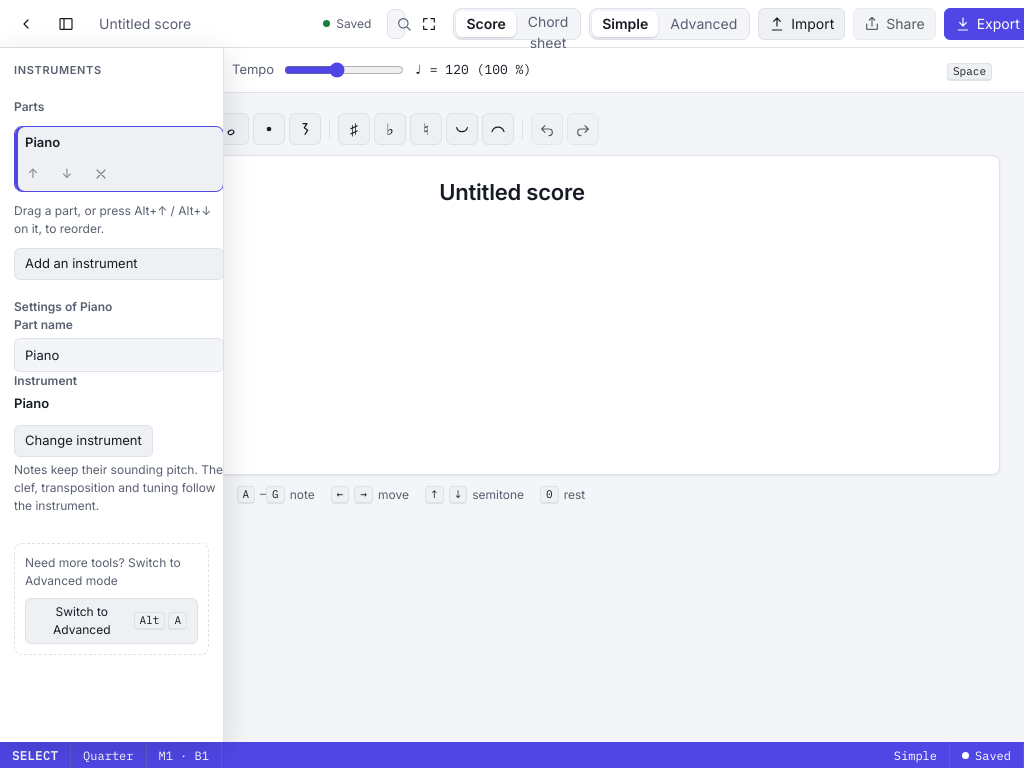
command palette › lists recently used commands first on the next opening
This screenshot has width=1024, height=768.
Type keys "{Control>}k{/Control}"
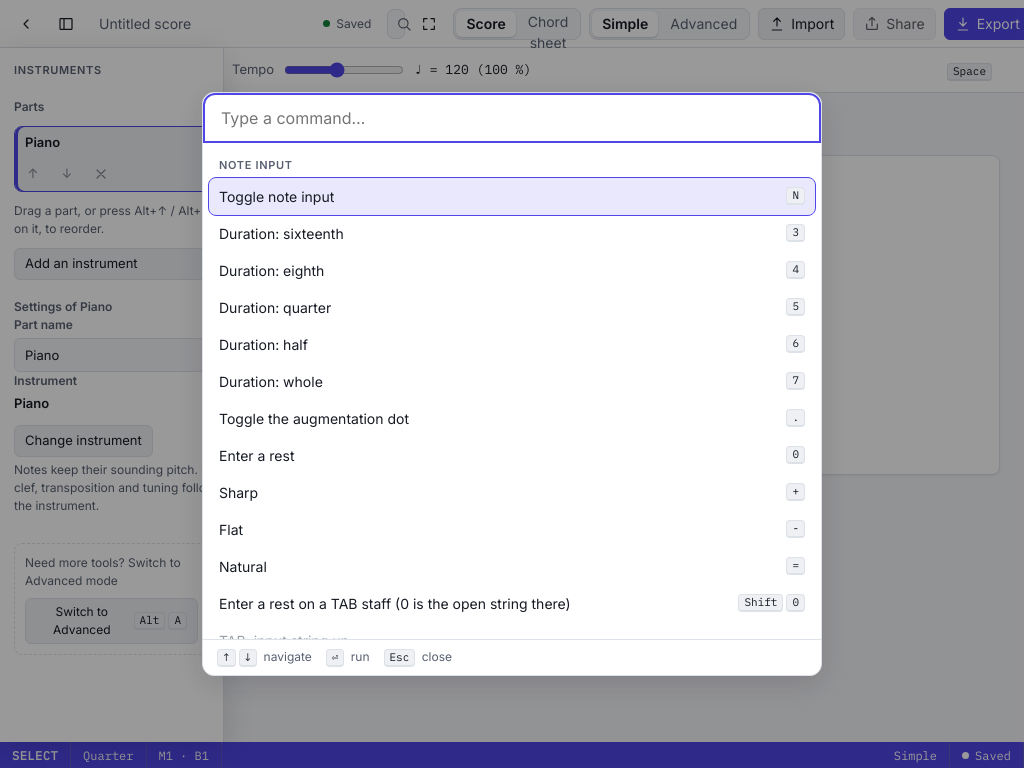
Type "dot" into the dropdown named "Search commands" at [512, 118], box [203,93,821,143]
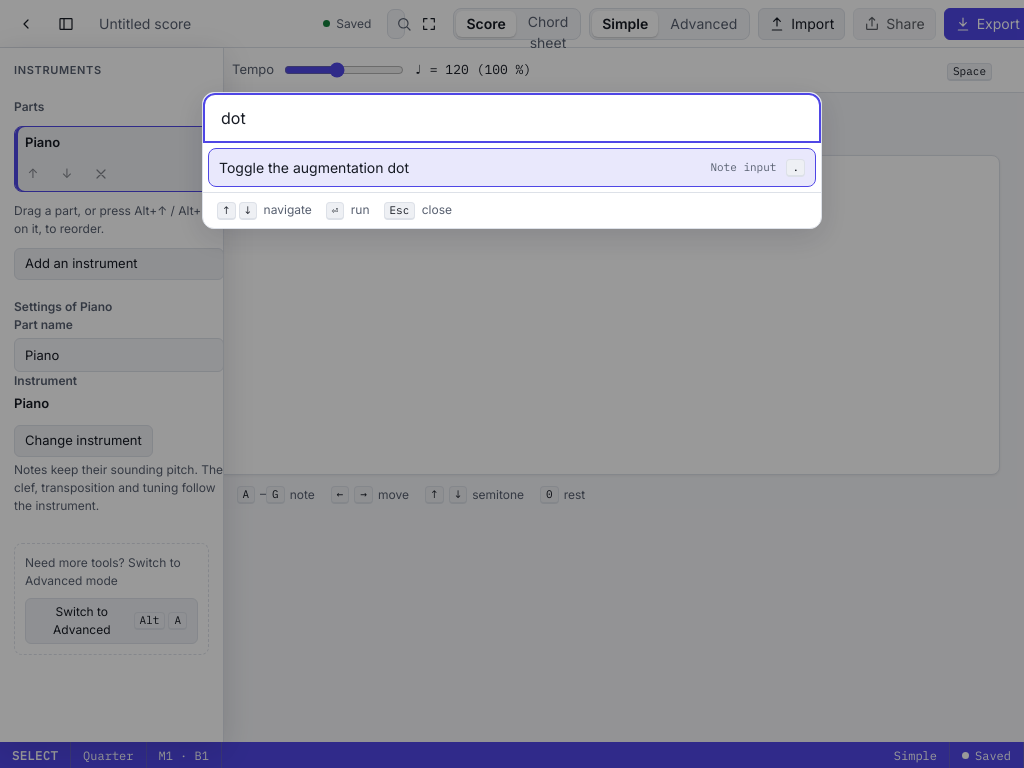
Press Enter
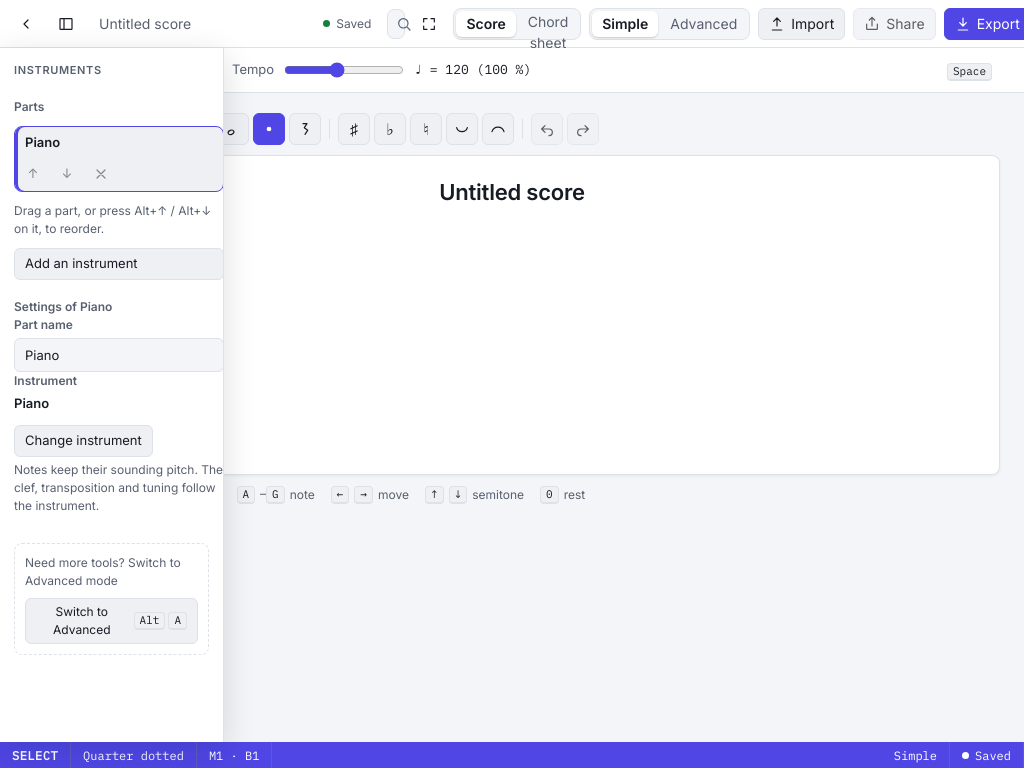
expect the dialog is gone: met
Type keys "{Control>}k{/Control}"
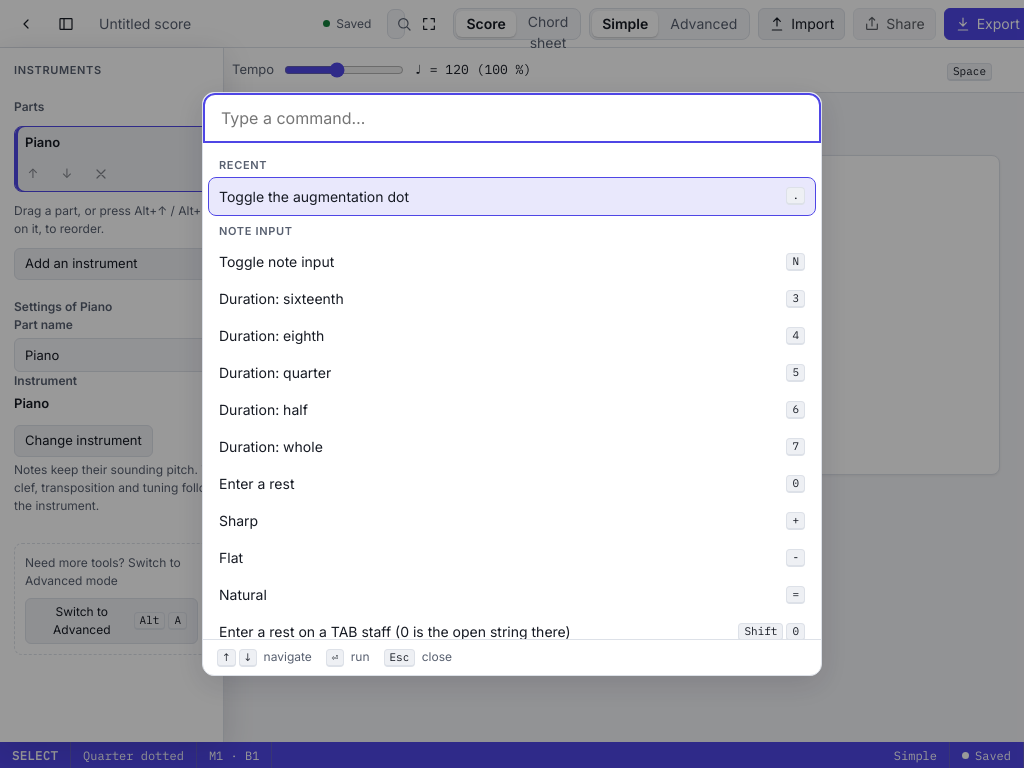
expect the option "Toggle the augmentation dot ." is shown: met, box [209,178,815,215]
expect the text "Recent" is shown: met, box [219,158,267,172]
